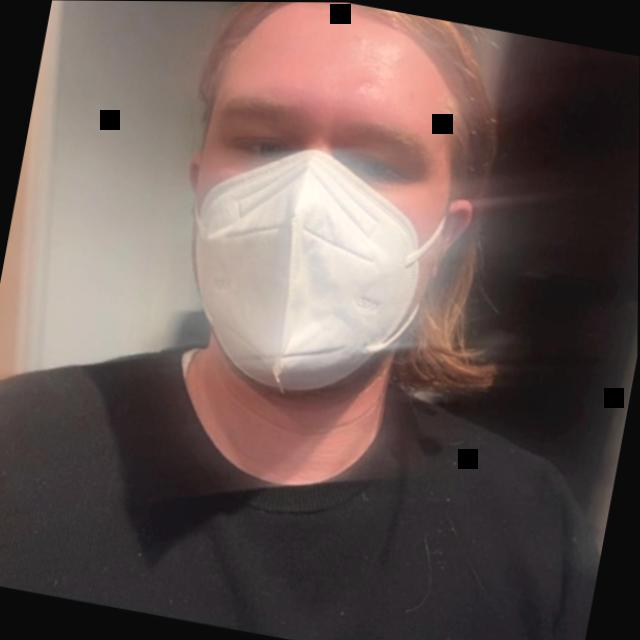Mask: (132, 1, 547, 424)
